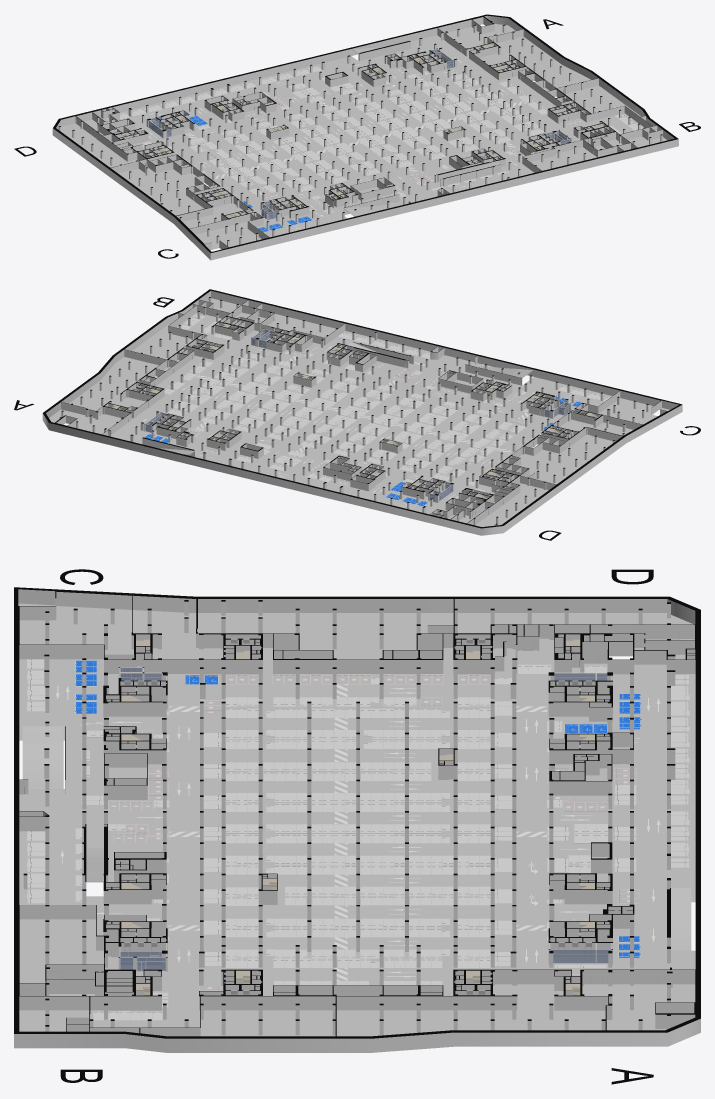
The picture shows the model from 3 angles, top to bottom: view 1: azimuth 30°, elevation 25°; view 2: azimuth 150°, elevation 25°; view 3: azimuth 270°, elevation 25°; orthographic projection. The views are drawn at different scales.
Visible parts, largest first — view 1: B5F_A,B,C,D; view 2: B5F_A,B,C,D; view 3: B5F_A,B,C,D.
Boxes of the visible parts, bbox=[...] form: B5F_A,B,C,D: bbox=[14, 14, 700, 260]; B5F_A,B,C,D: bbox=[14, 289, 700, 540]; B5F_A,B,C,D: bbox=[14, 569, 700, 1084].
Bounding box in the file's own units: 280 × 4.49 × 158.
